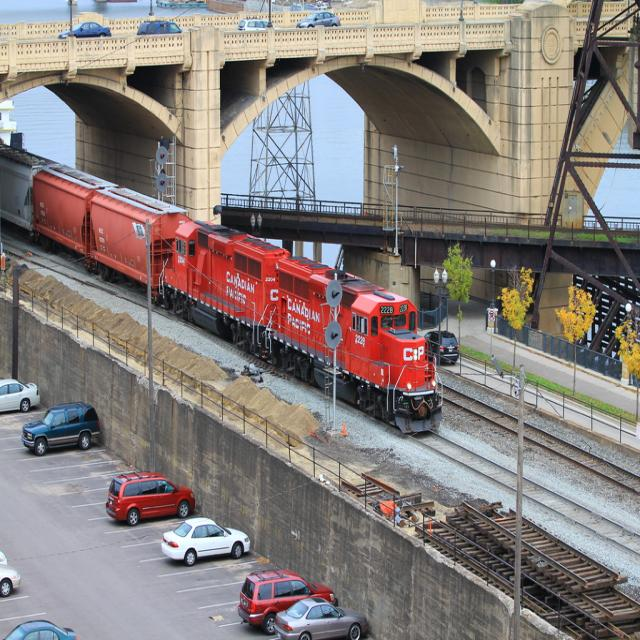car: (159, 512, 249, 569)
